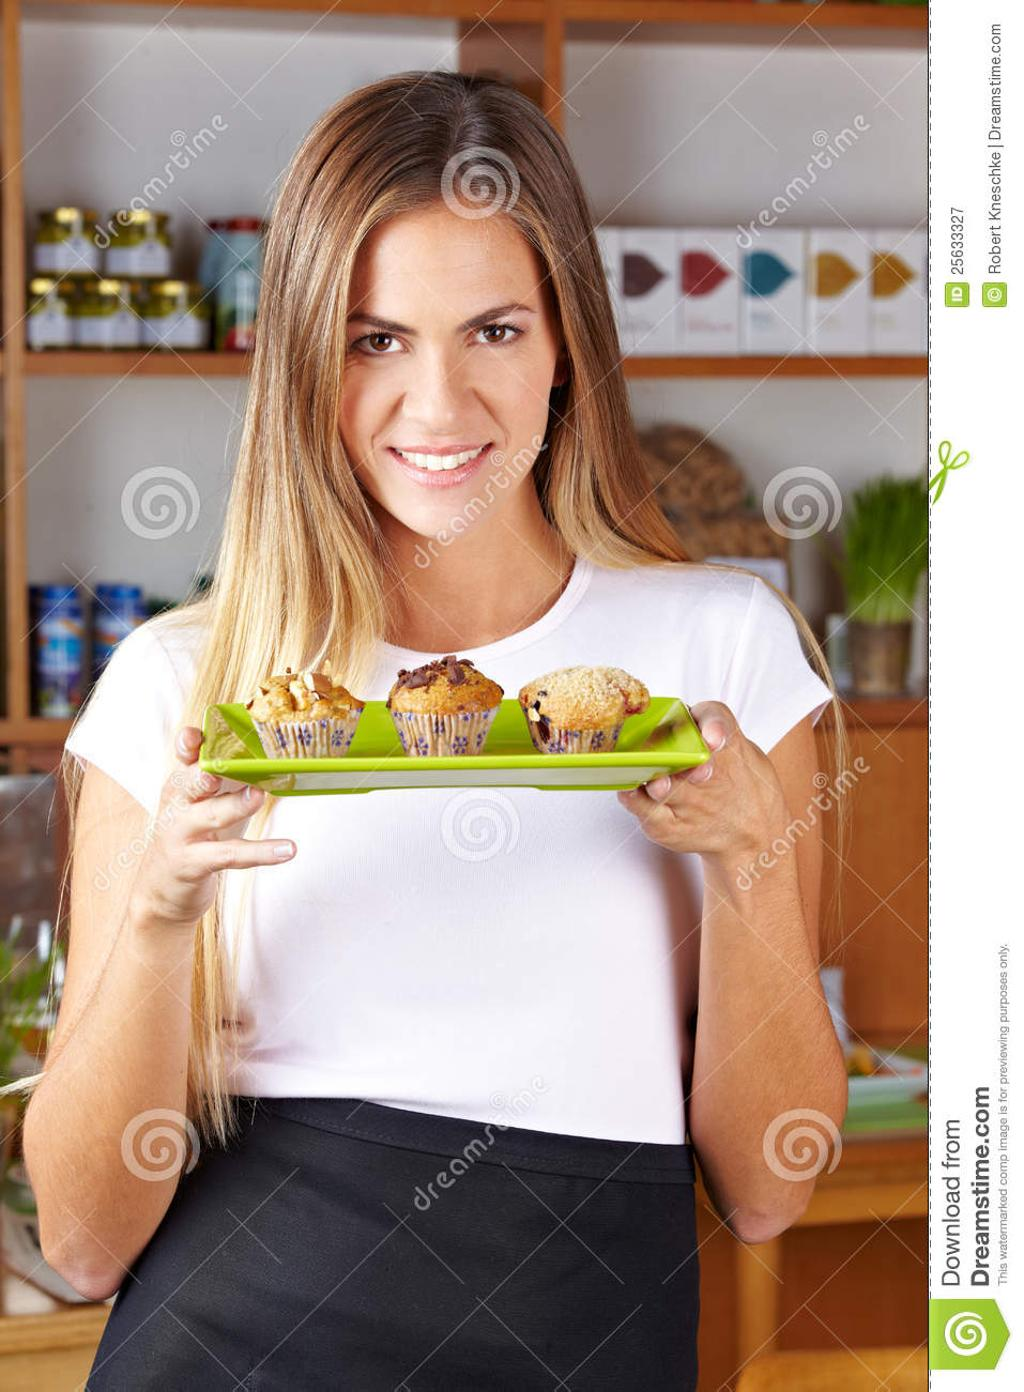face: (307, 198, 560, 535)
